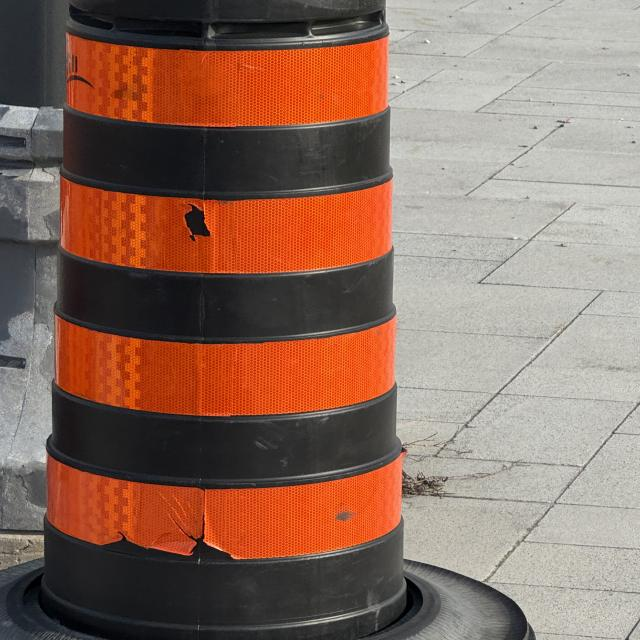Teraffic Barrel: (41, 1, 407, 640)
